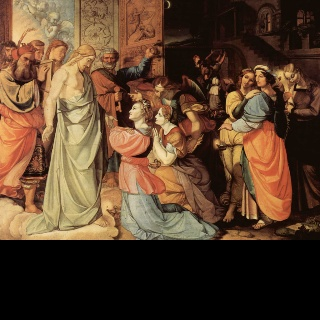without_mask: (5, 47, 16, 60)
